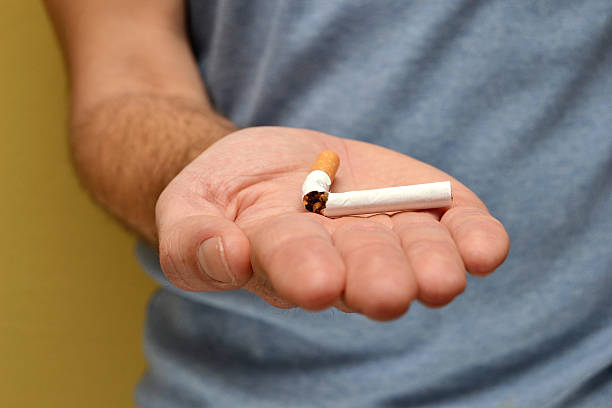cigarette: (310, 180, 454, 219), (300, 150, 341, 217)
